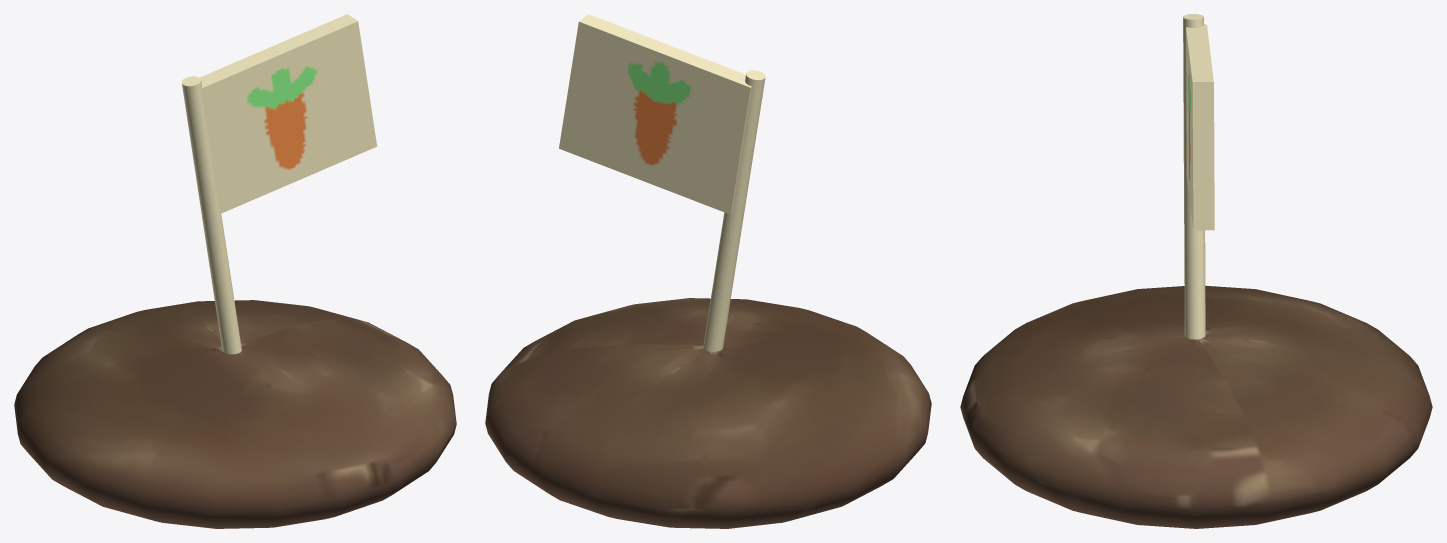
The model's file is flag.fbx.
3 renders of one model, left to right at view 1: azimuth 30°, elevation 25°; view 2: azimuth 150°, elevation 25°; view 3: azimuth 270°, elevation 25°, orthographic. The views are drawn at different scales.
Parts seen in each view (by area): view 1: pasted__pSphere8, pasted__polySurface2pasted__pasted__pCylinder3pasted__groupg, pasted__pasted__pasted__pCylinder3pasted__groupgroup1polySur; view 2: pasted__pSphere8, pasted__polySurface2pasted__pasted__pCylinder3pasted__groupg, pasted__pasted__pasted__pCylinder3pasted__groupgroup1polySur; view 3: pasted__pSphere8, pasted__polySurface2pasted__pasted__pCylinder3pasted__groupg, pasted__pasted__pasted__pCylinder3pasted__groupgroup1polySur.
Boxes of the visible parts, <box> form: pasted__pSphere8: <box>14,300,456,528</box>; pasted__polySurface2pasted__pasted__pCylinder3pasted__groupg: <box>200,14,377,213</box>; pasted__pasted__pasted__pCylinder3pasted__groupgroup1polySur: <box>181,76,241,354</box>; pasted__pSphere8: <box>485,298,931,528</box>; pasted__polySurface2pasted__pasted__pCylinder3pasted__groupg: <box>559,14,751,214</box>; pasted__pasted__pasted__pCylinder3pasted__groupgroup1polySur: <box>703,70,765,351</box>; pasted__pSphere8: <box>960,285,1432,528</box>; pasted__polySurface2pasted__pasted__pCylinder3pasted__groupg: <box>1186,24,1214,230</box>; pasted__pasted__pasted__pCylinder3pasted__groupgroup1polySur: <box>1183,14,1205,339</box>.
Bounding box in the file's own units: 4.02 × 4.3 × 4.02.
